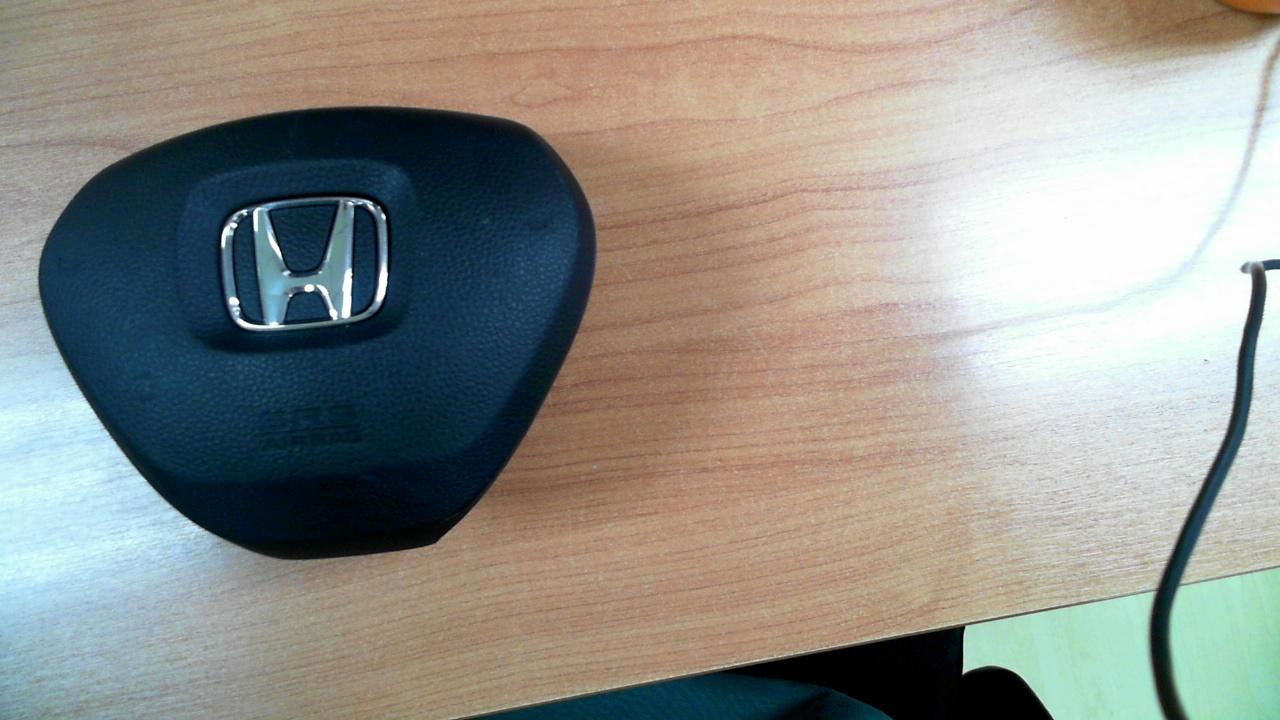Airbag: (37, 106, 597, 561)
Honda: (220, 196, 389, 330)
